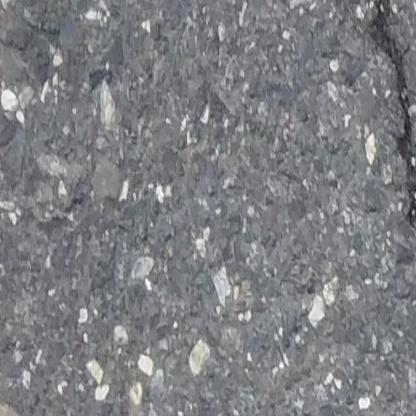Cracks: (360, 0, 416, 257)
